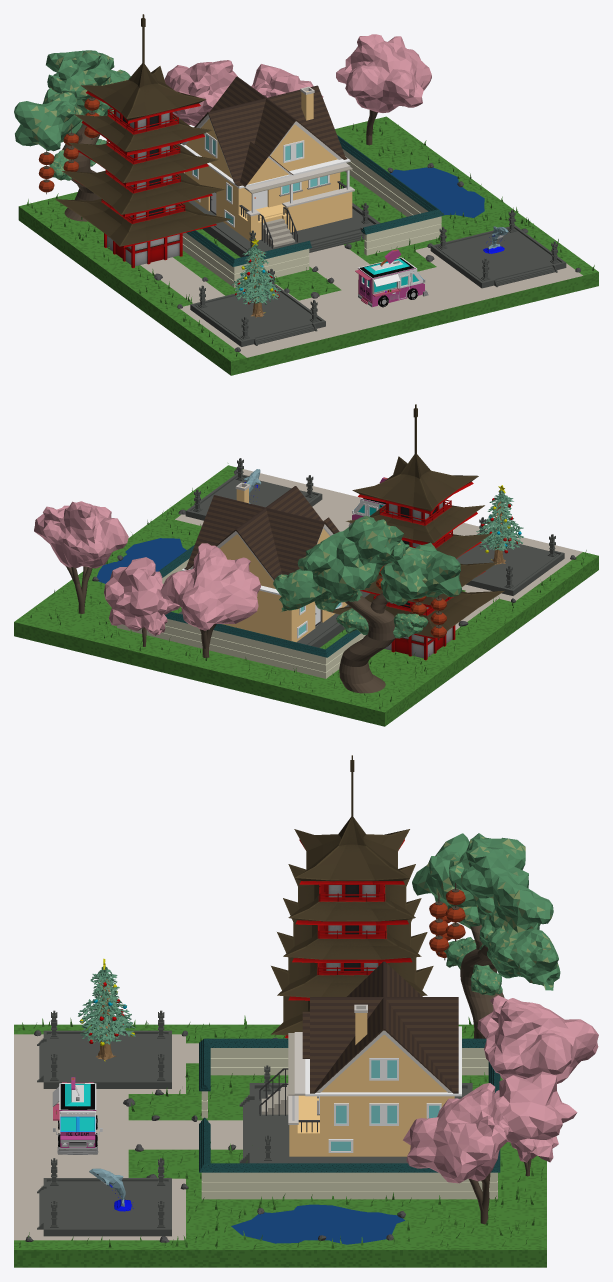
3 renders of one model, top to bottom at view 1: azimuth 30°, elevation 25°; view 2: azimuth 150°, elevation 25°; view 3: azimuth 270°, elevation 25°, orthographic. The views are drawn at different scales.
Visible parts, largest first — view 1: Cube.005, Cube.235, VEHICLES_ICE_CREAM_TRUCK, OBJRANDOM_CHRISTMAS_TREE; view 2: Cube.005, Cube.235, OBJRANDOM_CHRISTMAS_TREE, VEHICLES_ICE_CREAM_TRUCK; view 3: Cube.005, Cube.235, VEHICLES_ICE_CREAM_TRUCK, OBJRANDOM_CHRISTMAS_TREE, ANIMAL_DELFIN.
Part boxes in pixels (<box>): Cube.005: <box>14,14,598,375</box>; Cube.235: <box>179,76,354,248</box>; VEHICLES_ICE_CREAM_TRUCK: <box>355,249,428,307</box>; OBJRANDOM_CHRISTMAS_TREE: <box>231,239,280,317</box>; Cube.005: <box>14,404,598,726</box>; Cube.235: <box>181,482,347,642</box>; OBJRANDOM_CHRISTMAS_TREE: <box>476,485,523,564</box>; VEHICLES_ICE_CREAM_TRUCK: <box>348,477,387,526</box>; Cube.005: <box>14,755,598,1267</box>; Cube.235: <box>259,961,461,1156</box>; VEHICLES_ICE_CREAM_TRUCK: <box>52,1077,102,1154</box>; OBJRANDOM_CHRISTMAS_TREE: <box>78,958,135,1061</box>; ANIMAL_DELFIN: <box>89,1168,133,1211</box>.
Bounding box in the file's own units: 4528 × 2842 × 4389.
50 materials, 5 textured.
